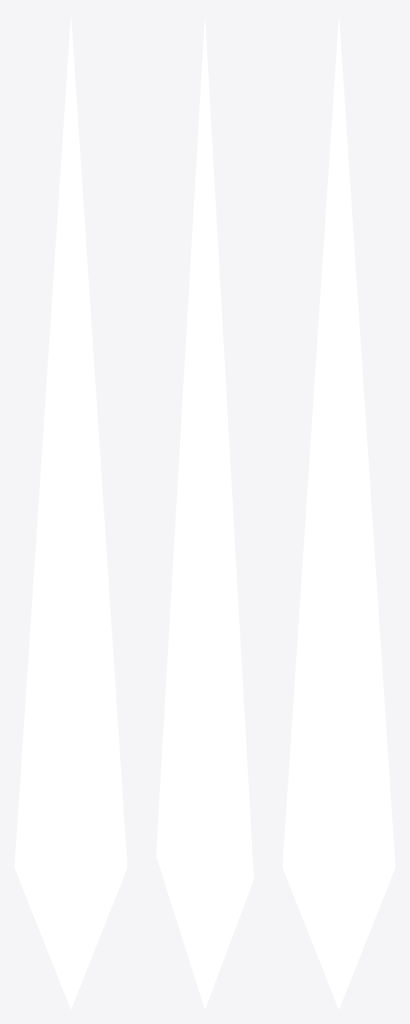
Rendered from spark_crimson.glb.
The picture shows the model from 3 angles, left to right: view 1: azimuth 90°, elevation 25°; view 2: azimuth 150°, elevation 25°; view 3: azimuth 270°, elevation 25°; orthographic projection.
Visible parts, largest first — view 1: spark; view 2: spark; view 3: spark.
Part boxes in pixels (<box>): spark: <box>14,17,127,1009</box>; spark: <box>156,17,253,1009</box>; spark: <box>282,17,395,1009</box>.
Bounding box in the file's own units: 0.36 × 3.5 × 0.36.
